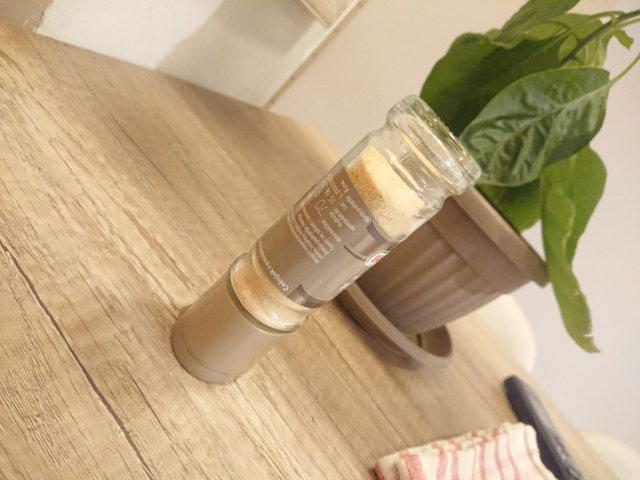Kotanyi Garlic Granules 70g: (167, 90, 483, 389)
